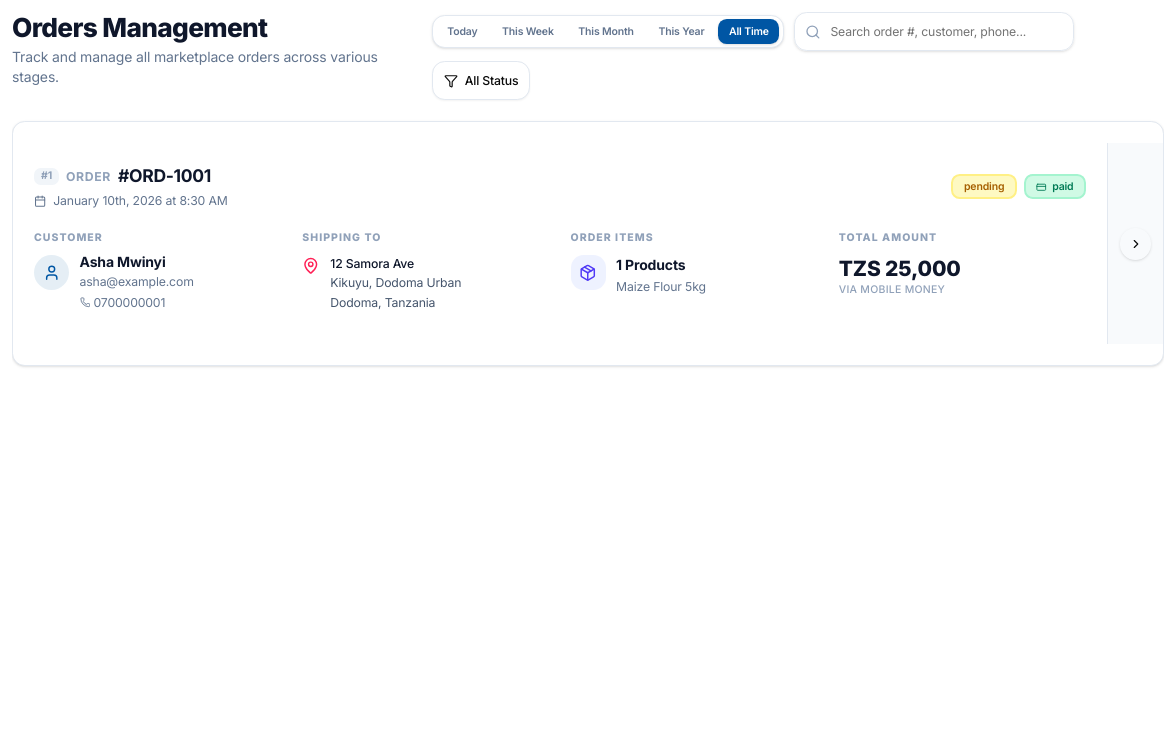
Scenario: OrdersManagementTab › shows the filtered empty state with a clear-filters action when search matches nothing
Type "no-such-order" into the field with placeholder "Search order #, customer, phone..." at (934, 32), box x1=794 y1=12 x2=1074 y2=51
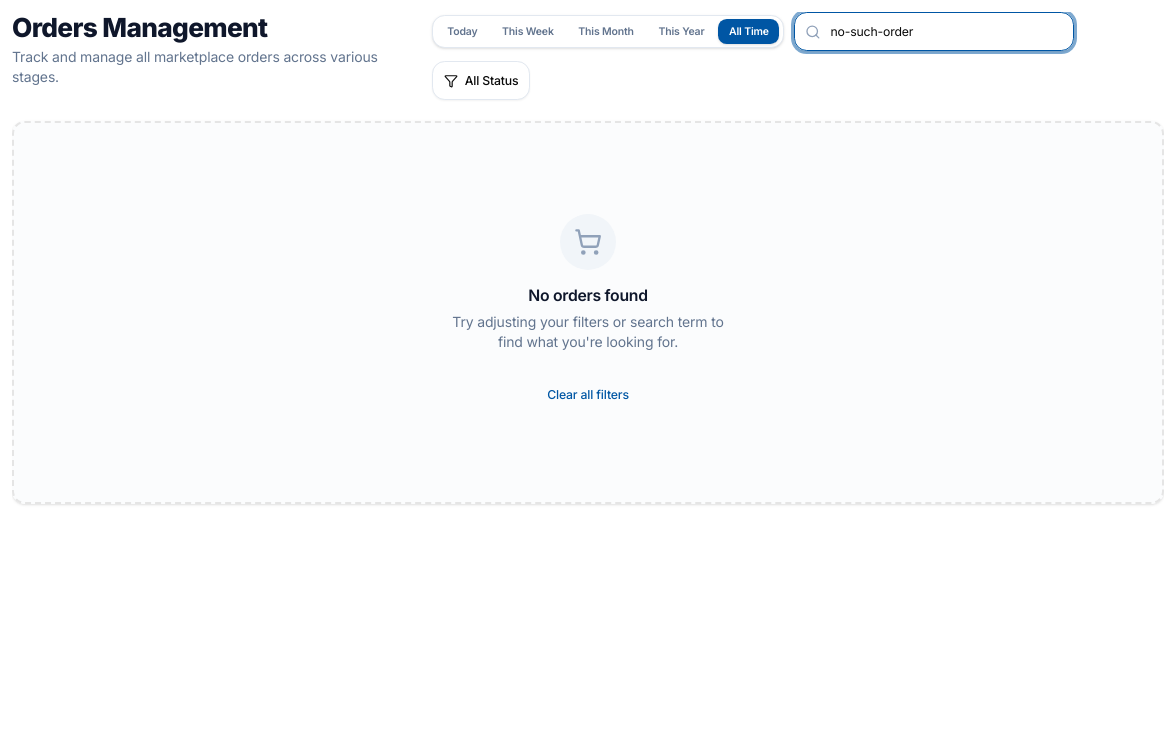
Expected: the heading "No orders found" is shown, x1=528 y1=286 x2=648 y2=305
Expected: the text "Try adjusting your filters" is shown, x1=452 y1=313 x2=724 y2=350
Expected: the button "Clear all filters" is shown, x1=533 y1=379 x2=643 y2=411
